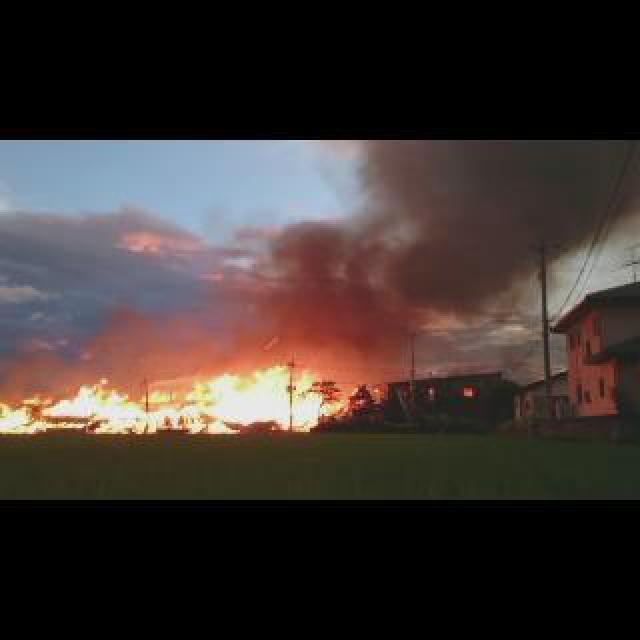Fire: (4, 364, 360, 434), (466, 388, 474, 396), (374, 386, 380, 394)
Smoke: (246, 137, 640, 366), (90, 292, 206, 384)
